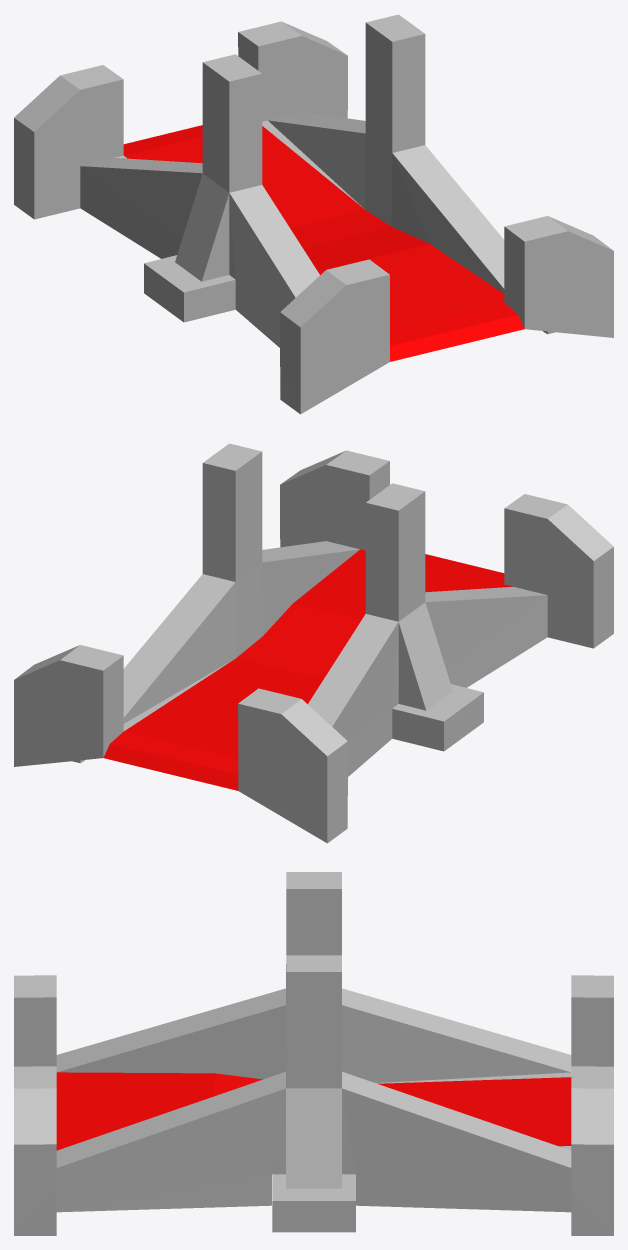
The model's file is mine_bridge_collision_01.fbx.
3 renders of one model, top to bottom at view 1: azimuth 30°, elevation 25°; view 2: azimuth 150°, elevation 25°; view 3: azimuth 270°, elevation 25°, orthographic. The views are drawn at different scales.
Visible parts, largest first — view 1: obj1.009; view 2: obj1.009; view 3: obj1.009.
Part boxes in pixels (bbox=[...]): obj1.009: bbox=[14, 14, 613, 414]; obj1.009: bbox=[14, 443, 613, 843]; obj1.009: bbox=[14, 872, 613, 1235].
Bounding box in the file's own units: 8.84 × 6.02 × 14.
